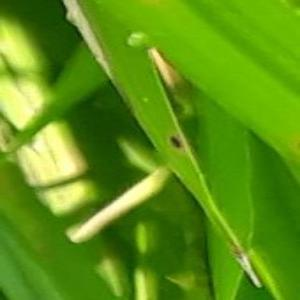Brown_Spot: (162, 128, 187, 156)
